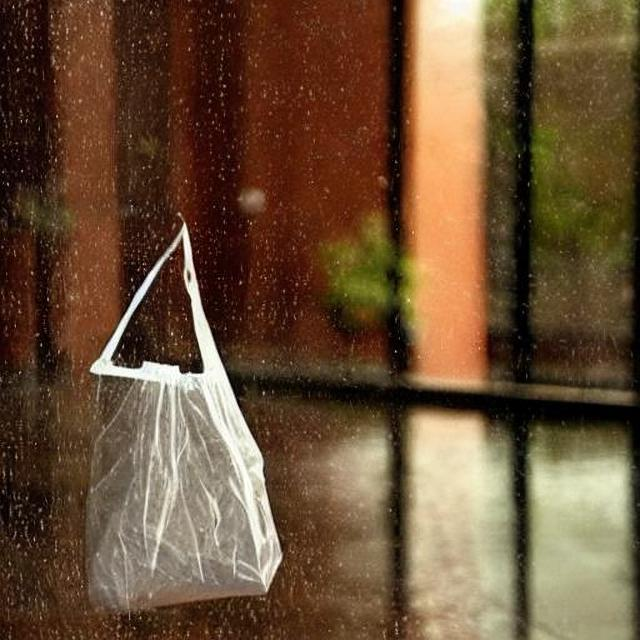plastic bag: (60, 185, 364, 640)
